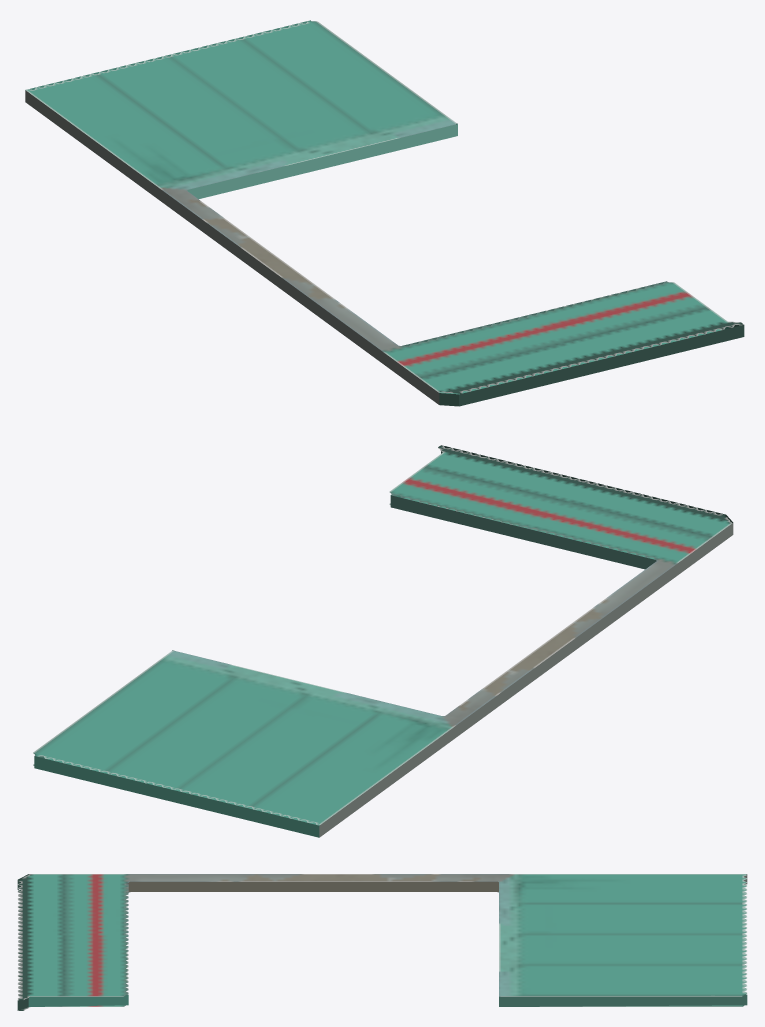
The model's file is pz_native_location_restaurant_diner_01_19_frame.obj.
The picture shows the model from 3 angles, top to bottom: view 1: azimuth 30°, elevation 25°; view 2: azimuth 150°, elevation 25°; view 3: azimuth 270°, elevation 25°; orthographic projection. The views are drawn at different scales.
Parts seen in each view (by area): view 1: pz_native_location_restaurant_diner_01_19_frame; view 2: pz_native_location_restaurant_diner_01_19_frame; view 3: pz_native_location_restaurant_diner_01_19_frame.
Part boxes in pixels (x1=…): pz_native_location_restaurant_diner_01_19_frame: x1=25, y1=20, x2=744, y2=406; pz_native_location_restaurant_diner_01_19_frame: x1=33, y1=445, x2=733, y2=837; pz_native_location_restaurant_diner_01_19_frame: x1=17, y1=874, x2=747, y2=1010.
Size of the model in its own units: 1.08 by 0.04 by 2.54.
1 material, 1 textured.
